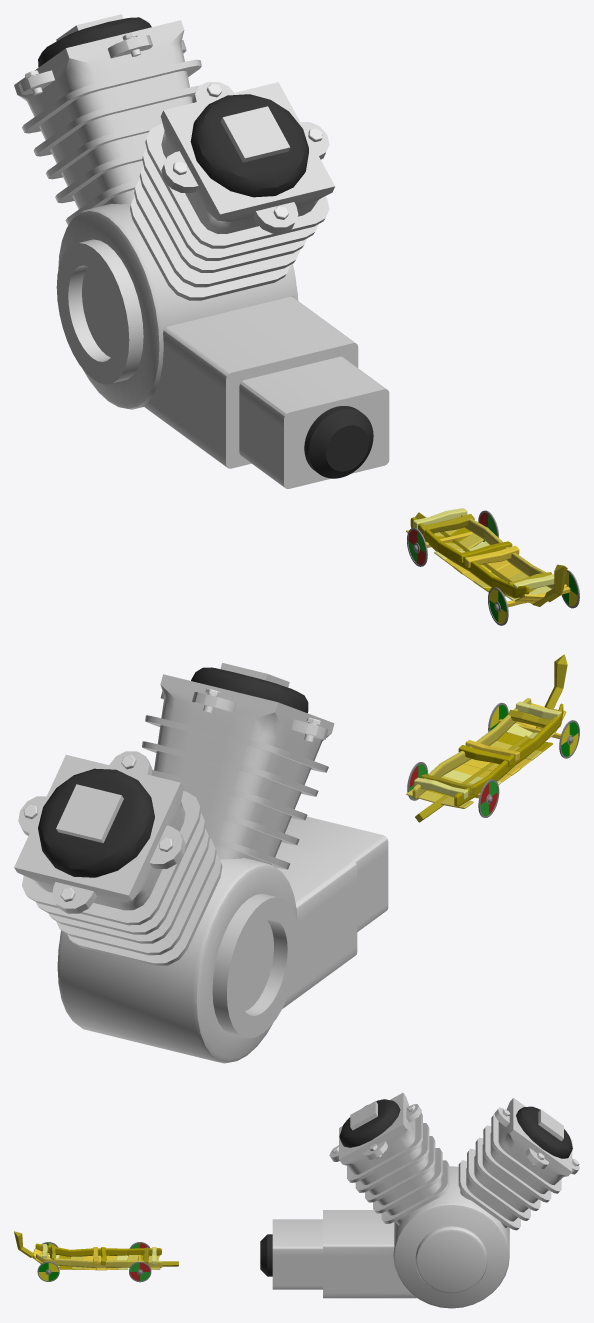
Rendered from ЛОДКА.2.fbx.
The picture shows the model from 3 angles, top to bottom: view 1: azimuth 30°, elevation 25°; view 2: azimuth 150°, elevation 25°; view 3: azimuth 270°, elevation 25°; orthographic projection. The views are drawn at different scales.
Parts seen in each view (by area): view 1: Circle.007, Cube.001, Circle.002, Circle.001, Cube, Plane.001; view 2: Circle.007, Cube.001, Plane.001, Cube, Circle.001, Circle.002, Cube.005, Cube.002; view 3: Circle.007, Cube.001, Cube, Circle.001, Circle.002, Plane.001.
Boxes of the visible parts, x1=… form: Circle.007: x1=14, y1=14, x2=389, y2=488; Cube.001: x1=410, y1=517, x2=529, y2=598; Circle.002: x1=488, y1=570, x2=579, y2=625; Circle.001: x1=407, y1=510, x2=498, y2=566; Cube: x1=461, y1=514, x2=554, y2=588; Plane.001: x1=415, y1=512, x2=567, y2=606; Circle.007: x1=14, y1=663, x2=388, y2=1063; Cube.001: x1=454, y1=703, x2=563, y2=806; Plane.001: x1=415, y1=654, x2=567, y2=822; Cube: x1=412, y1=698, x2=531, y2=799; Circle.001: x1=407, y1=762, x2=499, y2=817; Circle.002: x1=488, y1=702, x2=579, y2=758; Cube.005: x1=458, y1=745, x2=513, y2=766; Cube.002: x1=414, y1=777, x2=468, y2=799; Circle.007: x1=260, y1=1093, x2=579, y2=1308; Cube.001: x1=35, y1=1243, x2=161, y2=1256; Cube: x1=36, y1=1254, x2=162, y2=1268; Circle.001: x1=129, y1=1242, x2=151, y2=1282; Circle.002: x1=37, y1=1242, x2=59, y2=1281; Plane.001: x1=14, y1=1231, x2=178, y2=1266.
Bounding box in the file's own units: 386 × 695 × 1921.
